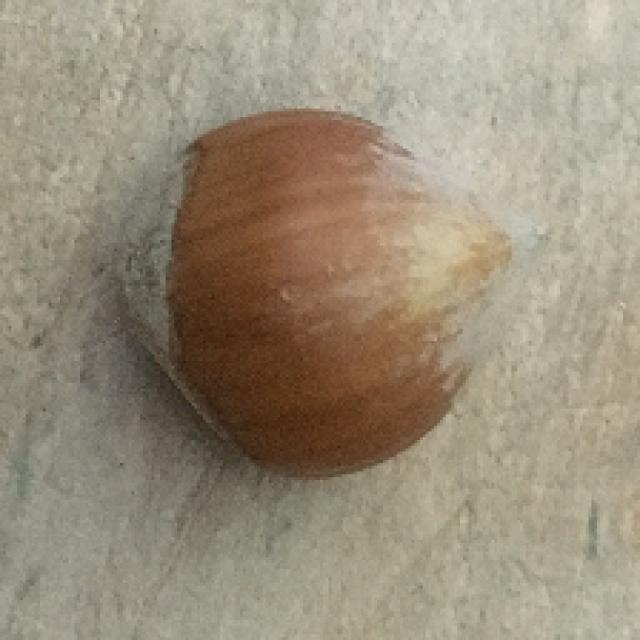QualityHazelnut: (116, 108, 546, 475)
